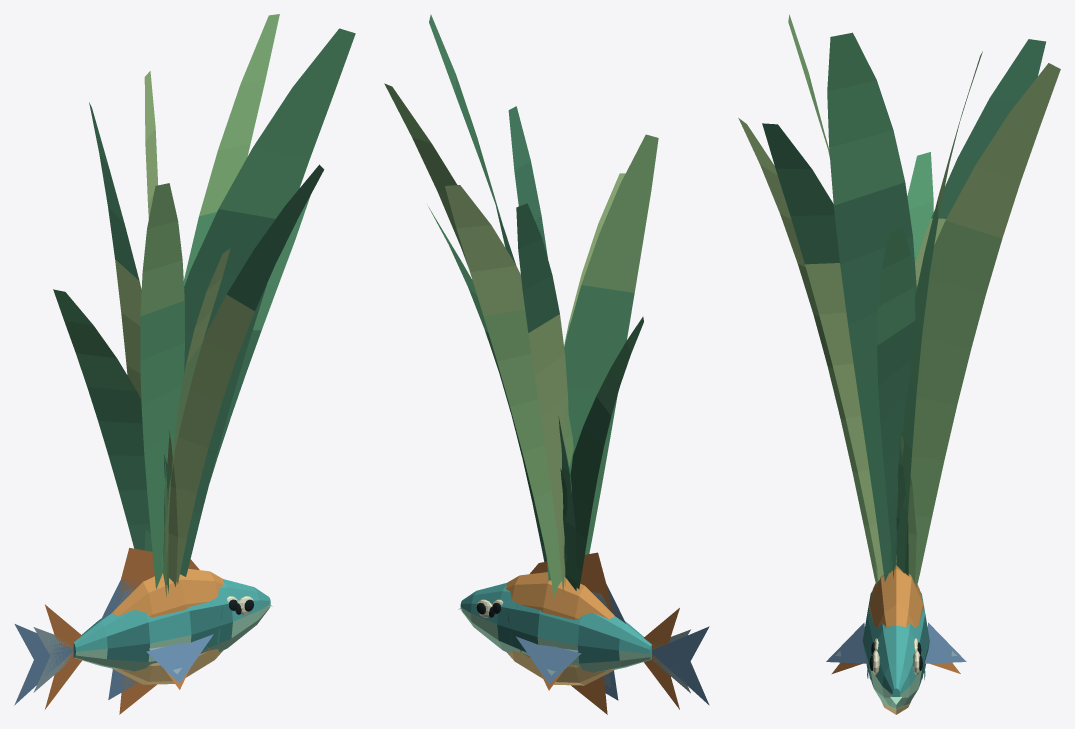
Rendered from sea-life.glb.
3 renders of one model, left to right at view 1: azimuth 30°, elevation 25°; view 2: azimuth 150°, elevation 25°; view 3: azimuth 270°, elevation 25°, orthographic. The views are drawn at different scales.
Visible parts, largest first — view 1: Flexible blade 9, Flexible blade 2, Flexible blade 4, Flexible blade 5, Reef_Wrasse tapered body, Flexible blade 6, Flexible blade 8, Amber_Bream tapered body, Flexible blade 7, Flexible blade 1, Flexible blade 3, Reef_Wrasse forked caudal fin (+5 smaller); view 2: Flexible blade 2, Flexible blade 3, Flexible blade 8, Reef_Wrasse tapered body, Flexible blade 5, Amber_Bream tapered body, Flexible blade 9, Flexible blade 6, Flexible blade 4, Reef_Wrasse forked caudal fin, Flexible blade 1, Reef_Wrasse pectoral -1 (+4 smaller); view 3: Flexible blade 3, Flexible blade 9, Flexible blade 4, Flexible blade 1, Flexible blade 8, Flexible blade 7, Reef_Wrasse tapered body, Flexible blade 6, Amber_Bream tapered body, Flexible blade 5, Flexible blade 2, Reef_Wrasse pectoral -1 (+1 smaller).
Part boxes in pixels (x1,y1,x2,y2): Flexible blade 9: [163, 28, 355, 576]; Flexible blade 2: [140, 183, 184, 589]; Flexible blade 4: [173, 164, 324, 583]; Flexible blade 5: [53, 289, 170, 562]; Reef_Wrasse tapered body: [73, 579, 270, 671]; Flexible blade 6: [161, 14, 279, 570]; Flexible blade 8: [89, 102, 177, 586]; Amber_Bream tapered body: [112, 568, 224, 684]; Flexible blade 7: [163, 248, 230, 597]; Flexible blade 1: [144, 195, 310, 551]; Flexible blade 3: [144, 71, 168, 593]; Reef_Wrasse forked caudal fin: [14, 624, 73, 705]; Flexible blade 2: [546, 134, 658, 580]; Flexible blade 3: [445, 185, 573, 598]; Flexible blade 8: [516, 203, 568, 595]; Reef_Wrasse tapered body: [460, 583, 651, 672]; Flexible blade 5: [570, 316, 643, 589]; Amber_Bream tapered body: [505, 572, 614, 685]; Flexible blade 9: [429, 14, 577, 590]; Flexible blade 6: [384, 83, 571, 492]; Flexible blade 4: [508, 106, 565, 585]; Reef_Wrasse forked caudal fin: [652, 626, 709, 705]; Flexible blade 1: [428, 206, 576, 566]; Reef_Wrasse pectoral -1: [516, 636, 581, 683]; Flexible blade 3: [875, 63, 1060, 586]; Flexible blade 9: [827, 32, 916, 581]; Flexible blade 4: [762, 123, 883, 579]; Flexible blade 1: [877, 227, 915, 578]; Flexible blade 8: [877, 39, 1045, 581]; Flexible blade 7: [738, 118, 916, 584]; Reef_Wrasse tapered body: [862, 591, 929, 709]; Flexible blade 6: [896, 51, 982, 573]; Amber_Bream tapered body: [869, 565, 923, 714]; Flexible blade 5: [887, 152, 933, 573]; Flexible blade 2: [788, 14, 908, 575]; Reef_Wrasse pectoral -1: [924, 622, 966, 663].
Size of the model in its own units: 0.4952 by 0.9793 by 0.3652.
